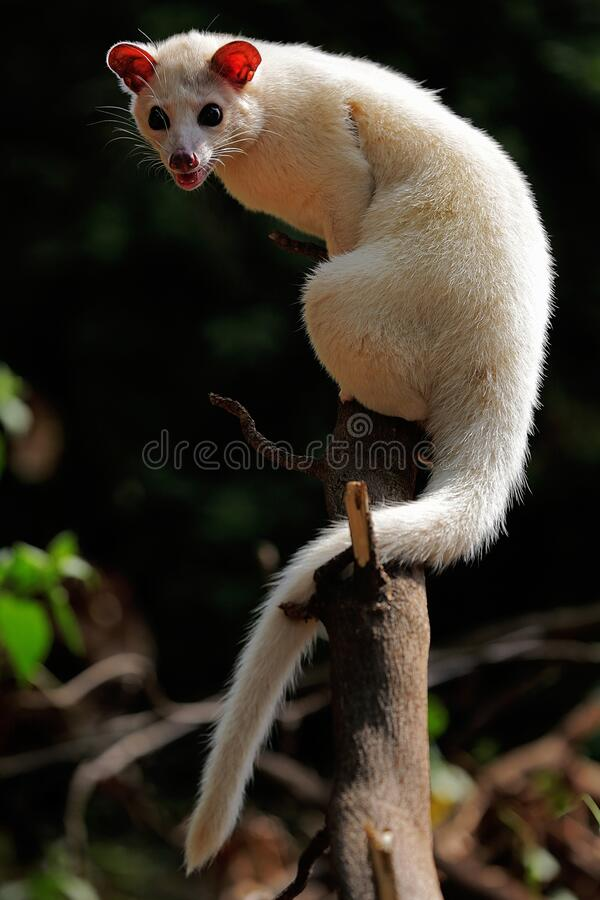Civet: (97, 15, 571, 880)
